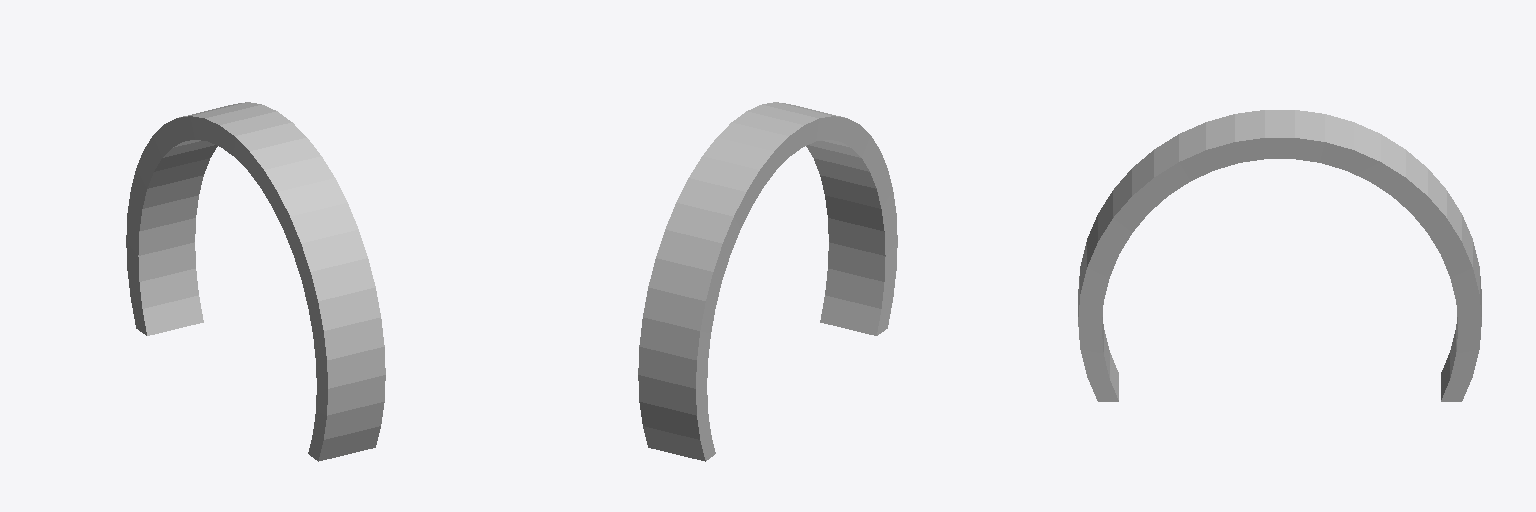
Rendered from Door Frame.obj.
The picture shows the model from 3 angles: view 1: azimuth 30°, elevation 25°; view 2: azimuth 150°, elevation 25°; view 3: azimuth 270°, elevation 25°; orthographic projection.
Visible parts, largest first — view 1: Door_Frame; view 2: Door_Frame; view 3: Door_Frame.
Boxes of the visible parts, x1=… form: Door_Frame: x1=126, y1=102, x2=385, y2=461; Door_Frame: x1=638, y1=102, x2=897, y2=461; Door_Frame: x1=1078, y1=110, x2=1481, y2=401.
Bounding box in the file's own units: 0.4842 × 2.12 × 2.94.